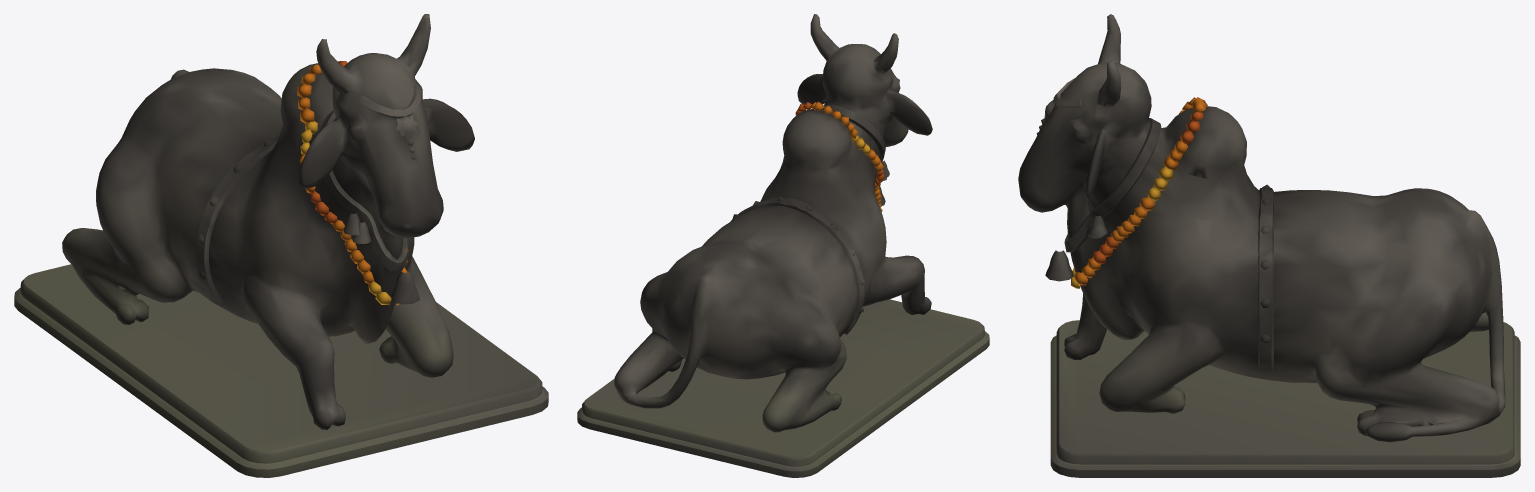
File: nandi.glb
3 views of the same model, side by side, from view 1: azimuth 30°, elevation 25°; view 2: azimuth 150°, elevation 25°; view 3: azimuth 270°, elevation 25° (orthographic). The views are drawn at different scales.
Parts seen in each view (by area): view 1: nandi; view 2: nandi; view 3: nandi.
Part boxes in pixels (x1=…): nandi: x1=14, y1=14, x2=548, y2=477; nandi: x1=577, y1=14, x2=989, y2=477; nandi: x1=1018, y1=14, x2=1520, y2=477.
Bounding box in the file's own units: 1.06 × 1.3 × 1.6.
